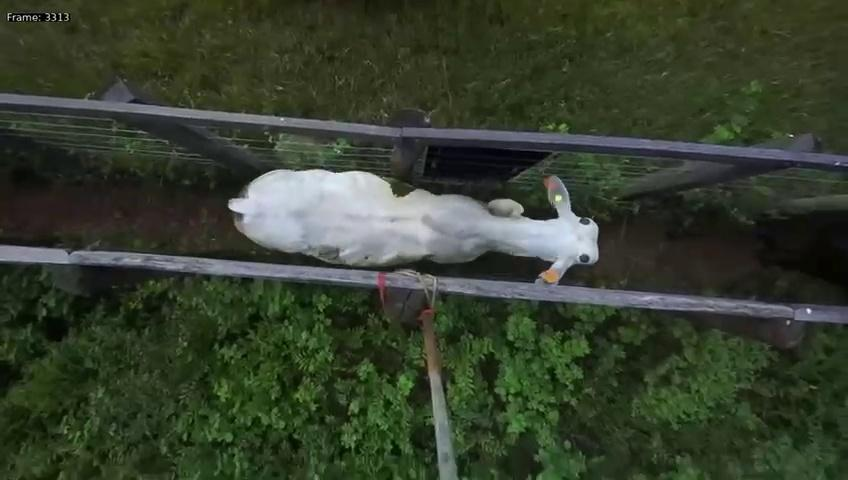cattle: (215, 158, 603, 291)
